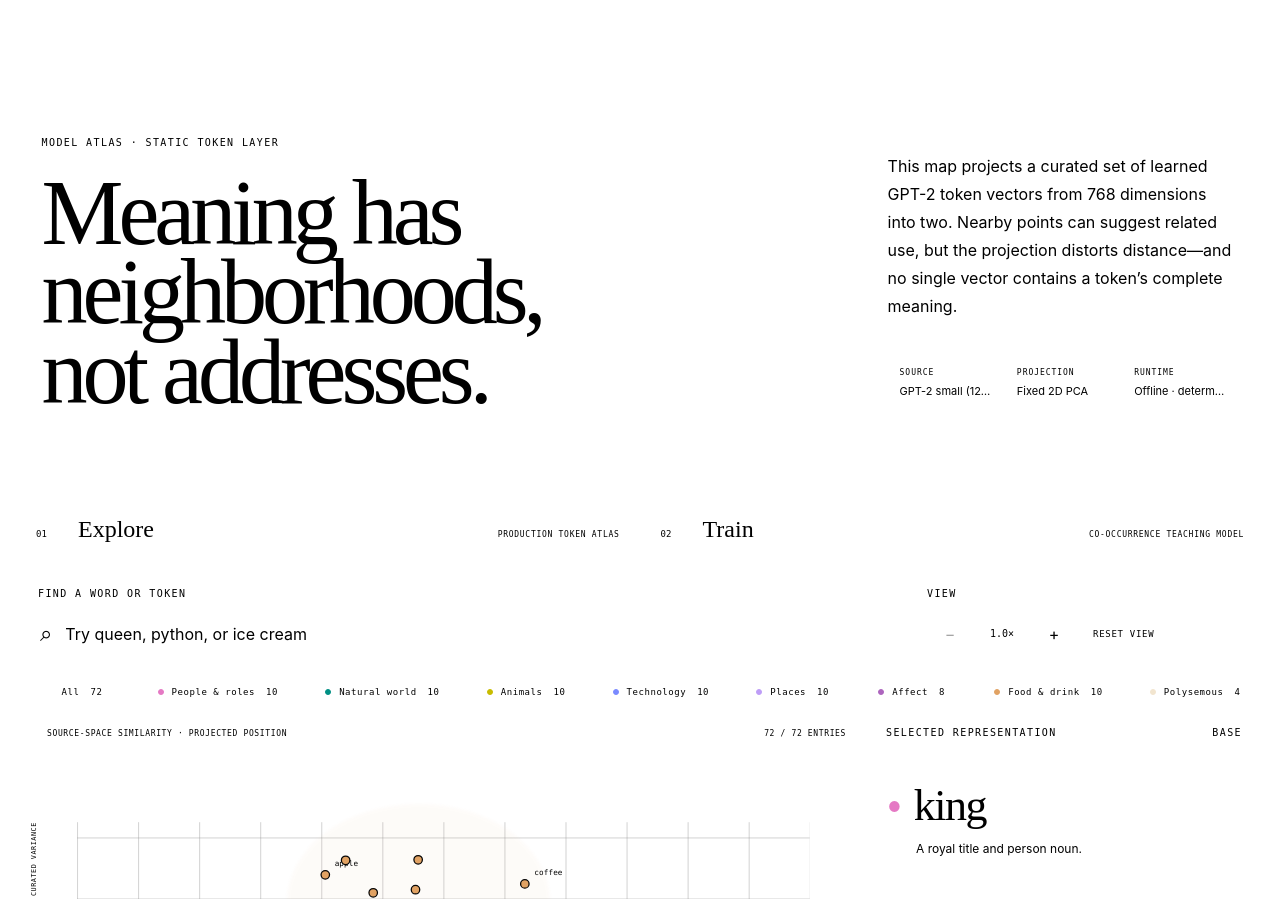
Test: EmbeddingSpaceVisualization › exposes cluster filters without changing the fixed projection
Click the button "Technology 10" at (661,693), box x1=589 y1=676 x2=733 y2=709
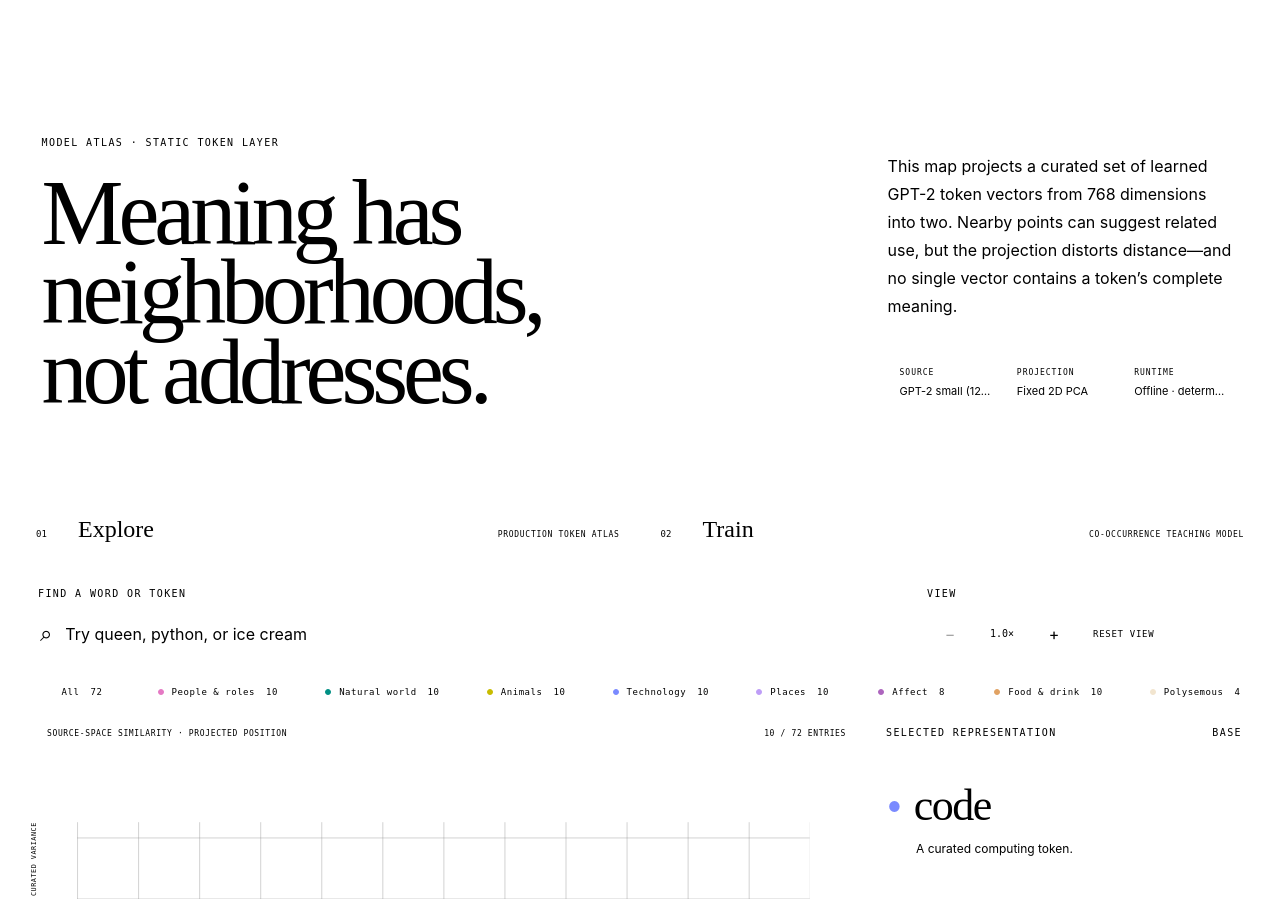
Check: the text "10 / 72 entries" is shown, box x1=764 y1=728 x2=846 y2=739
